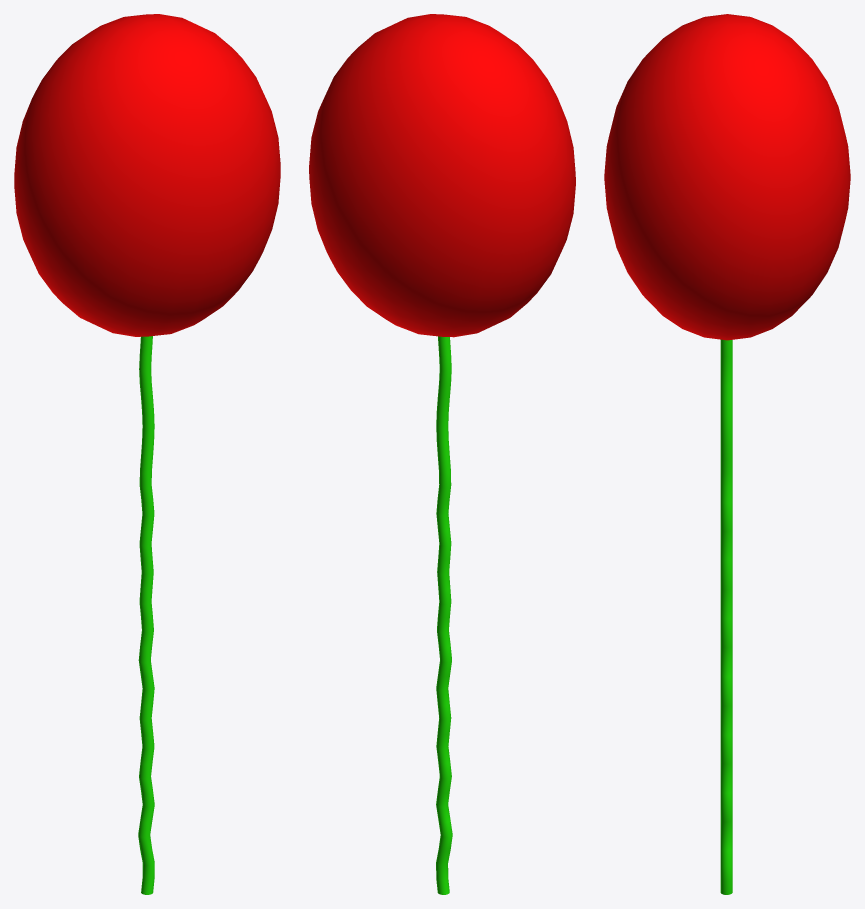
The model's file is umgebung_luftballon_low.FBX.
3 renders of one model, left to right at view 1: azimuth 30°, elevation 25°; view 2: azimuth 150°, elevation 25°; view 3: azimuth 270°, elevation 25°, orthographic.
Visible parts, largest first — view 1: o_luftballon_low, o_schnur_low; view 2: o_luftballon_low, o_schnur_low; view 3: o_luftballon_low, o_schnur_low.
Part boxes in pixels (x1,y1,x2,y2): o_luftballon_low: (14,14,280,336); o_schnur_low: (138,336,154,894); o_luftballon_low: (309,14,575,337); o_schnur_low: (436,336,452,894); o_luftballon_low: (604,14,850,340); o_schnur_low: (720,339,732,894).
Bounding box in the file's own units: 46.36 × 41.73 × 162.
